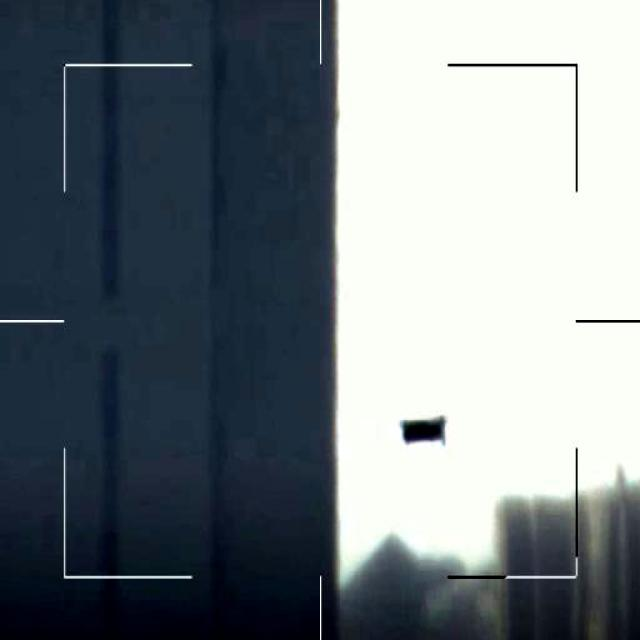bird: (399, 415, 449, 444)
